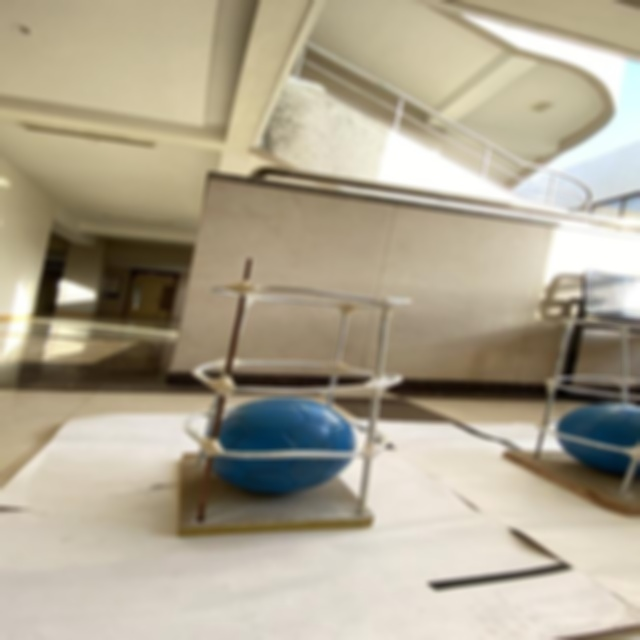blue_ball: (207, 397, 355, 497), (557, 402, 640, 468)
silo: (183, 277, 406, 533), (513, 298, 640, 507)
